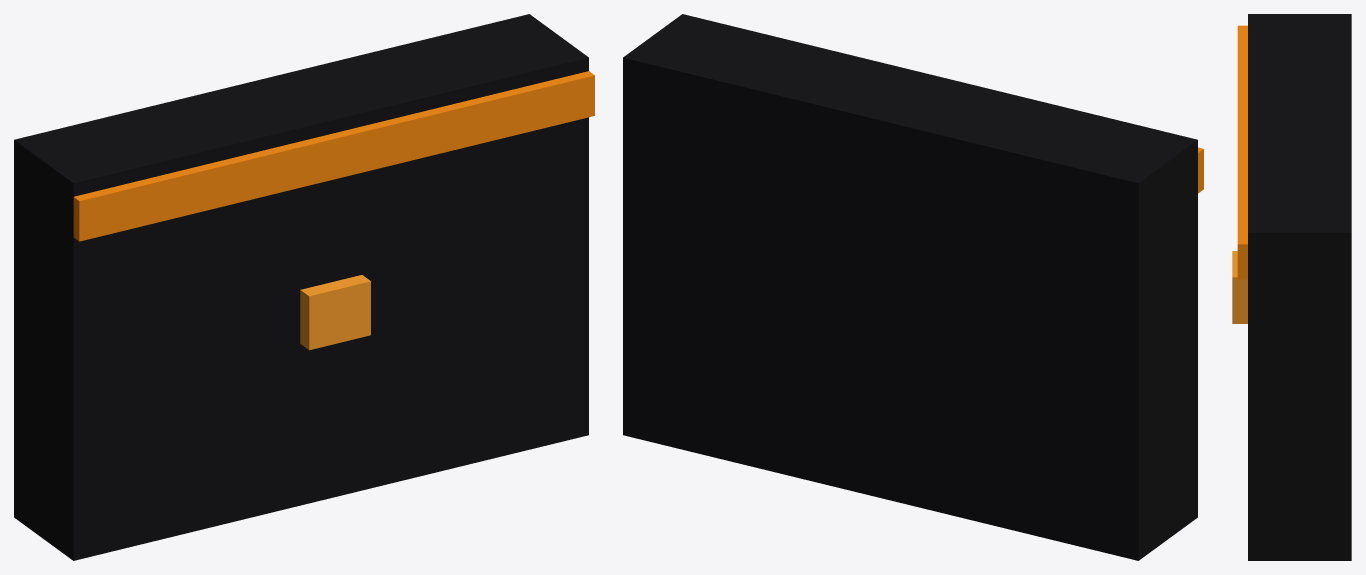
File: item_F1_BreachCharge.obj
The picture shows the model from 3 angles, left to right: view 1: azimuth 30°, elevation 25°; view 2: azimuth 150°, elevation 25°; view 3: azimuth 270°, elevation 25°; orthographic projection. The views are drawn at different scales.
Visible parts, largest first — view 1: Item_F1_BreachCharge, Item_F1_BreachCharge_Stripes, Item_F1_BreachCharge_Light; view 2: Item_F1_BreachCharge; view 3: Item_F1_BreachCharge, Item_F1_BreachCharge_Stripes, Item_F1_BreachCharge_Light.
Part boxes in pixels (<box>): Item_F1_BreachCharge: <box>14,14,588,560</box>; Item_F1_BreachCharge_Stripes: <box>73,71,594,241</box>; Item_F1_BreachCharge_Light: <box>300,275,370,350</box>; Item_F1_BreachCharge: <box>623,14,1197,560</box>; Item_F1_BreachCharge: <box>1248,14,1351,560</box>; Item_F1_BreachCharge_Stripes: <box>1237,25,1247,279</box>; Item_F1_BreachCharge_Light: <box>1232,251,1247,323</box>.
Bounding box in the file's own units: 0.2 × 0.14 × 0.046.
